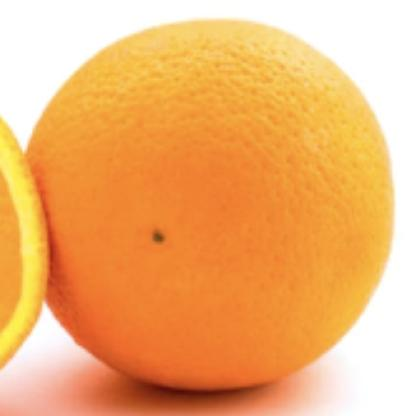fresh: (18, 18, 396, 394)
